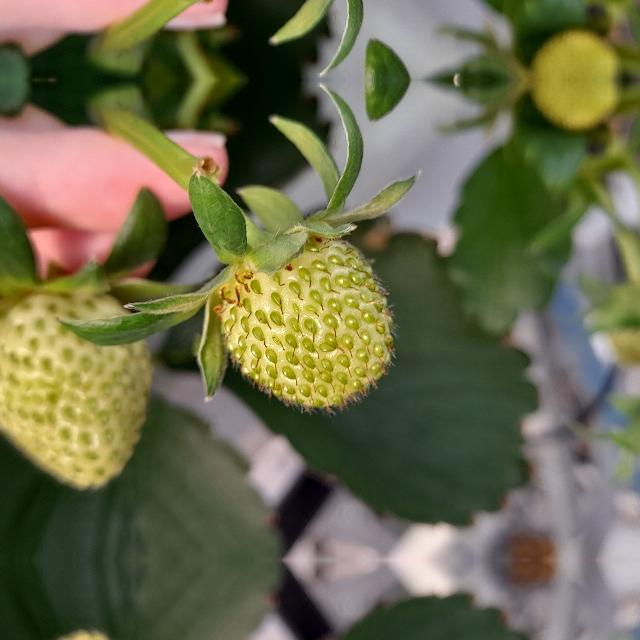Health_25: (214, 239, 398, 417), (0, 285, 156, 491)
